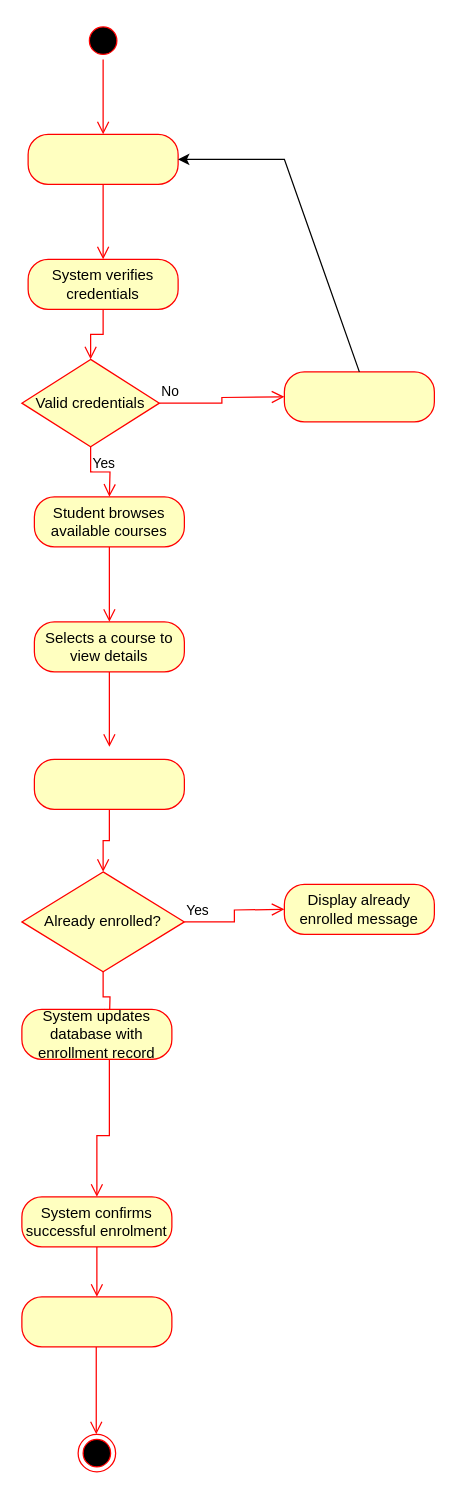
The diagram is 456 pixels wide and 1494 high, and some of its shapes have lost their labels. The box of each missing label's shape, as (x1, y1, x2, y2) in pixels:
Click "Enroll": (33, 758, 184, 809)
Display error message: (283, 371, 434, 422)
Student logs in: (27, 133, 178, 184)
System displays course on student dashboard: (21, 1296, 172, 1347)
